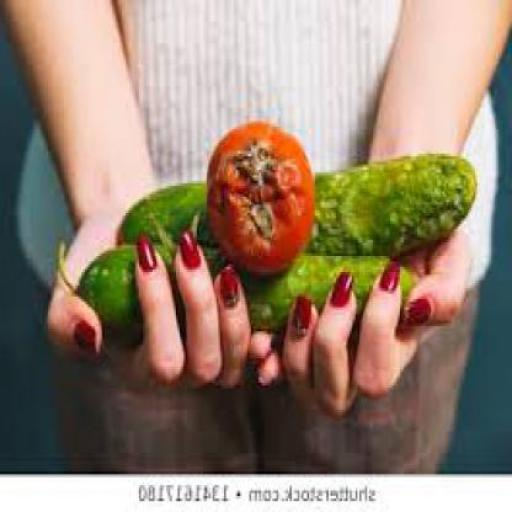biodegradable: (118, 151, 480, 259), (60, 237, 418, 345), (209, 118, 317, 272)
